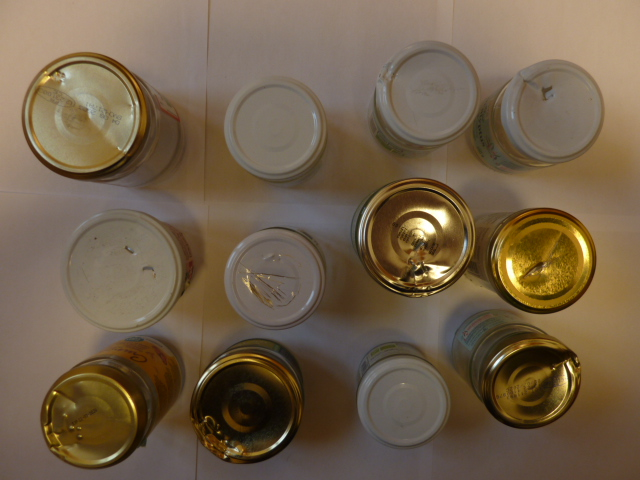damaged: (358, 176, 476, 299), (223, 228, 326, 331), (481, 335, 583, 430)
